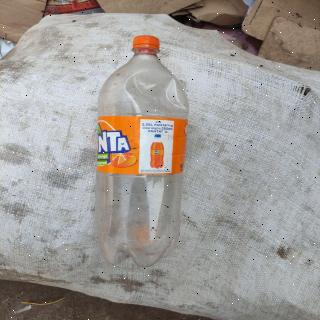Plastic-bottle: (92, 34, 192, 273)
